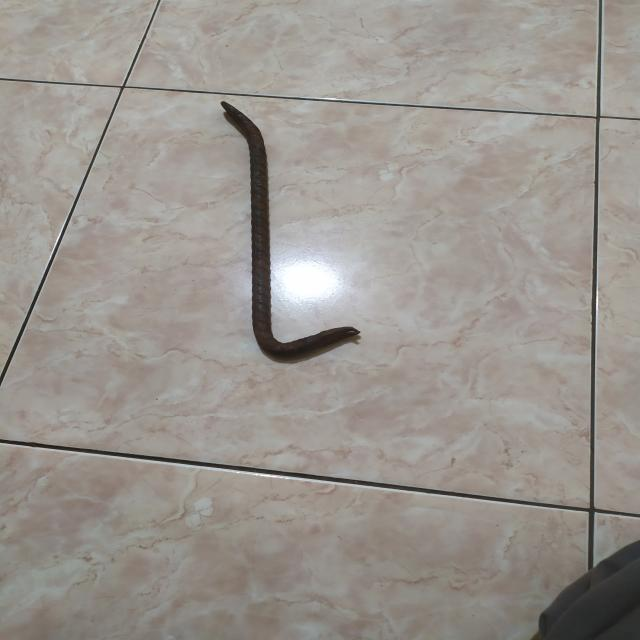Linggis: (214, 97, 366, 361)
